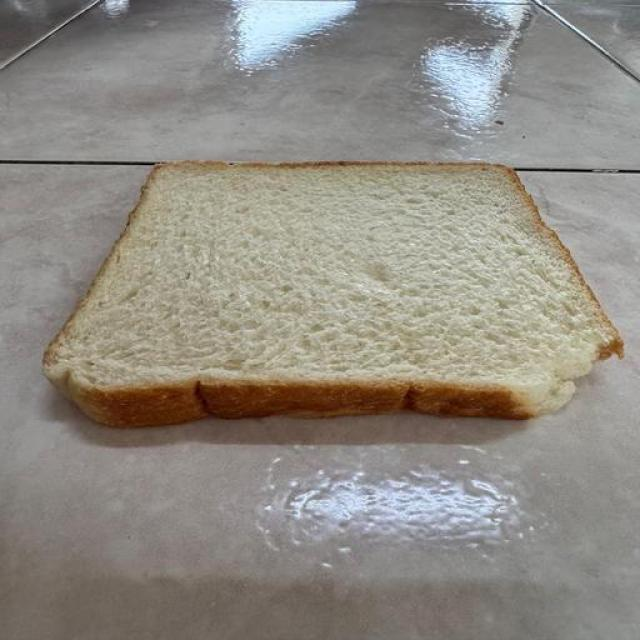organic: (44, 169, 536, 427)
